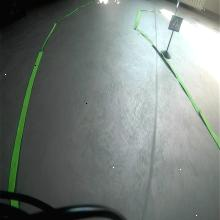crosswalk: (168, 14, 183, 33)
